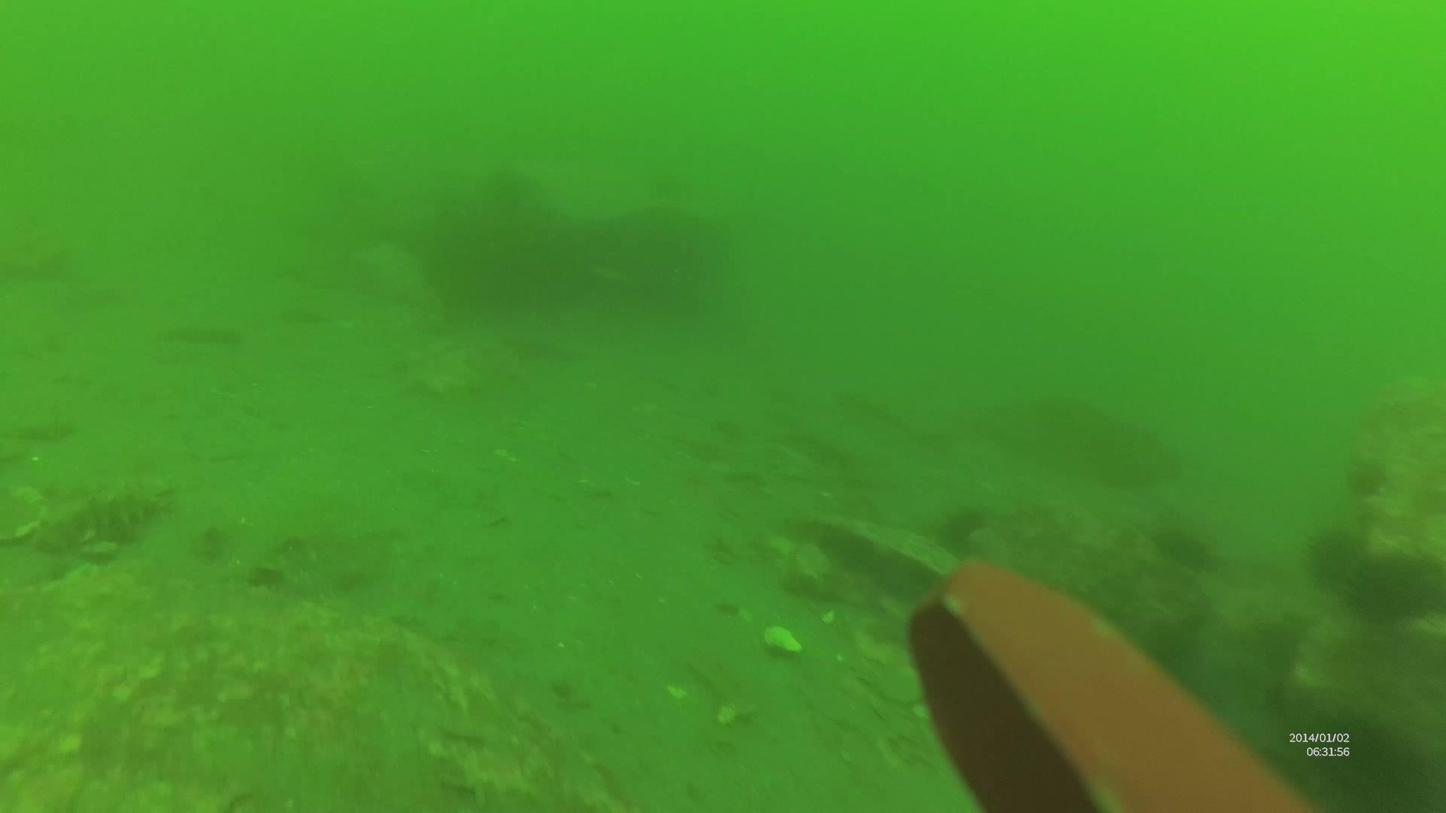echinus: (30, 472, 174, 553)
